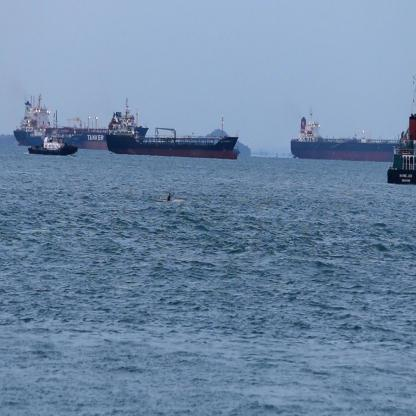Container Ship: (106, 98, 238, 161), (291, 107, 400, 163), (14, 94, 108, 151), (234, 147, 241, 157)
